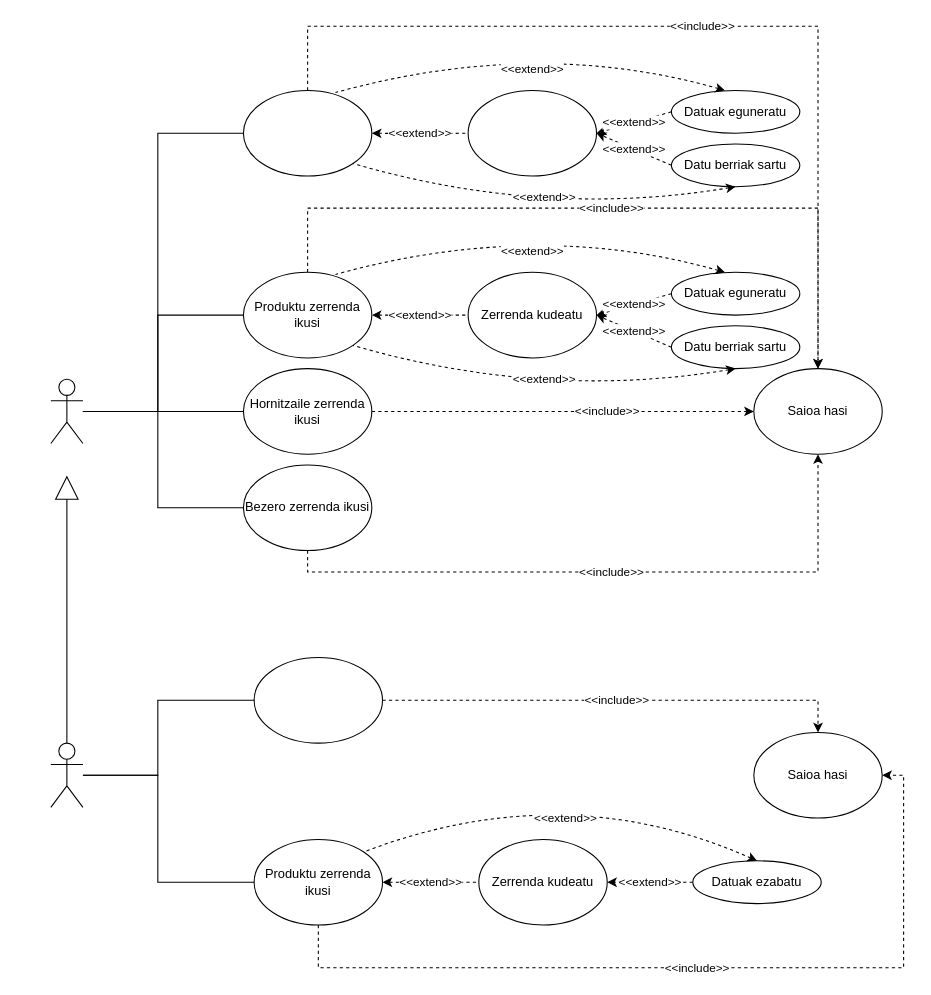
The diagram is 931 pixels wide and 995 high, and some of its shapes have lost their labels. The shapes that lost their labels are listed below. From the top down, each one's box as (x1, y1, x2, y2) in pixels, then its label:
(242, 89, 372, 176): Eskaeren zerrenda ikusi
(467, 89, 597, 176): Egoera eguneratu
(50, 378, 83, 444): Langilea
(253, 656, 383, 743): Langile zerrenda ikusi
(50, 742, 83, 807): Administratzailea
